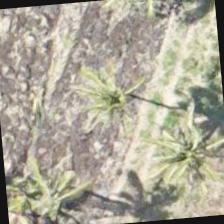Kelapa_Sawit: (67, 50, 165, 148), (131, 93, 223, 192), (3, 147, 86, 223)
